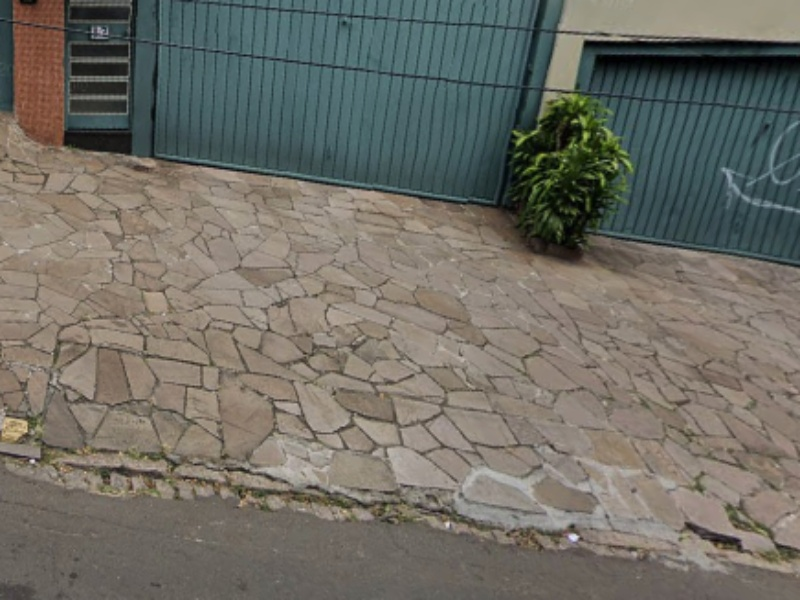g87: (50, 389, 790, 594)
